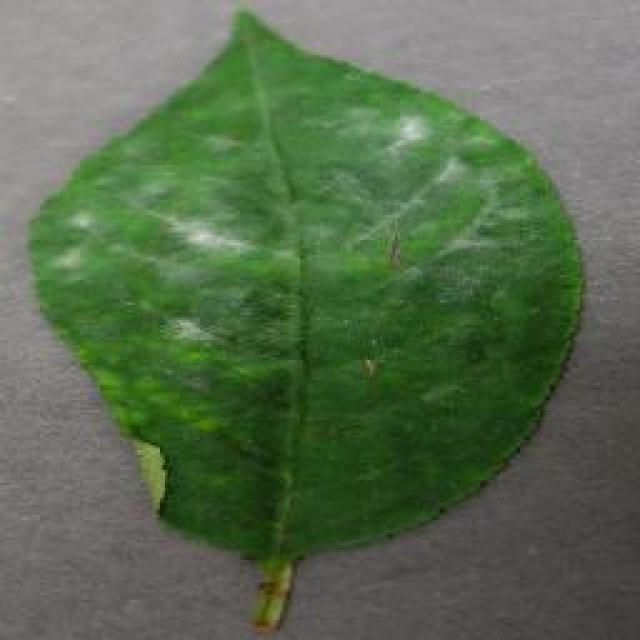Cherry___Powdery_mildew: (10, 2, 598, 638)
